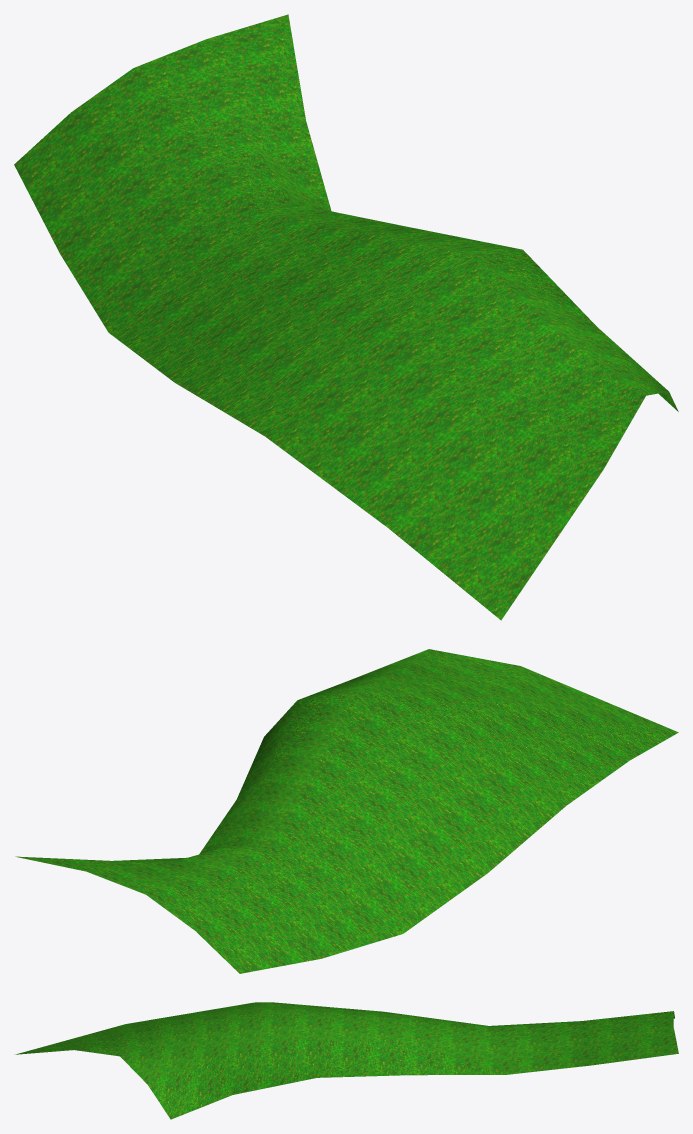
File: HTOWN01_PS09.fbx
3 renders of one model, top to bottom at view 1: azimuth 30°, elevation 25°; view 2: azimuth 150°, elevation 25°; view 3: azimuth 270°, elevation 25°, orthographic. The views are drawn at different scales.
Visible parts, largest first — view 1: HTOWN01_PS09; view 2: HTOWN01_PS09; view 3: HTOWN01_PS09.
Part boxes in pixels (bbox=[...]): HTOWN01_PS09: bbox=[14, 14, 678, 620]; HTOWN01_PS09: bbox=[15, 649, 678, 973]; HTOWN01_PS09: bbox=[15, 1002, 678, 1119].
Bounding box in the file's own units: 148617 × 64322 × 376829.
1 material, 1 textured.
